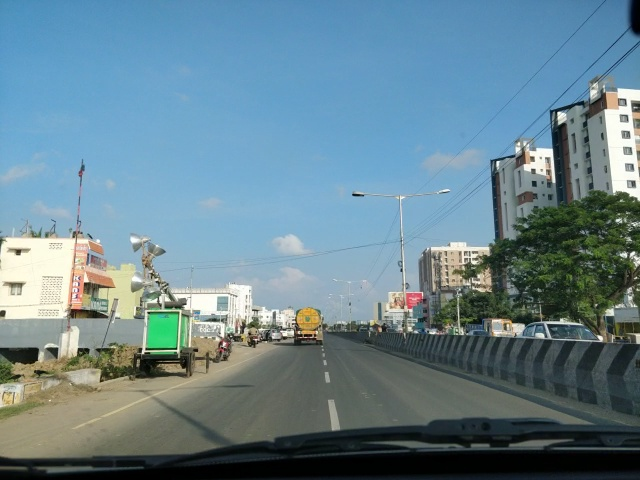car: (524, 321, 607, 370), (515, 319, 600, 342), (456, 326, 493, 346), (262, 329, 283, 340), (465, 329, 492, 337), (279, 328, 288, 338), (286, 328, 295, 338)
motorbike: (214, 332, 233, 363), (216, 330, 232, 359), (247, 338, 259, 351)
person: (248, 327, 260, 337), (381, 323, 388, 332)
truck: (463, 317, 517, 352), (296, 308, 323, 342), (464, 319, 515, 337)
